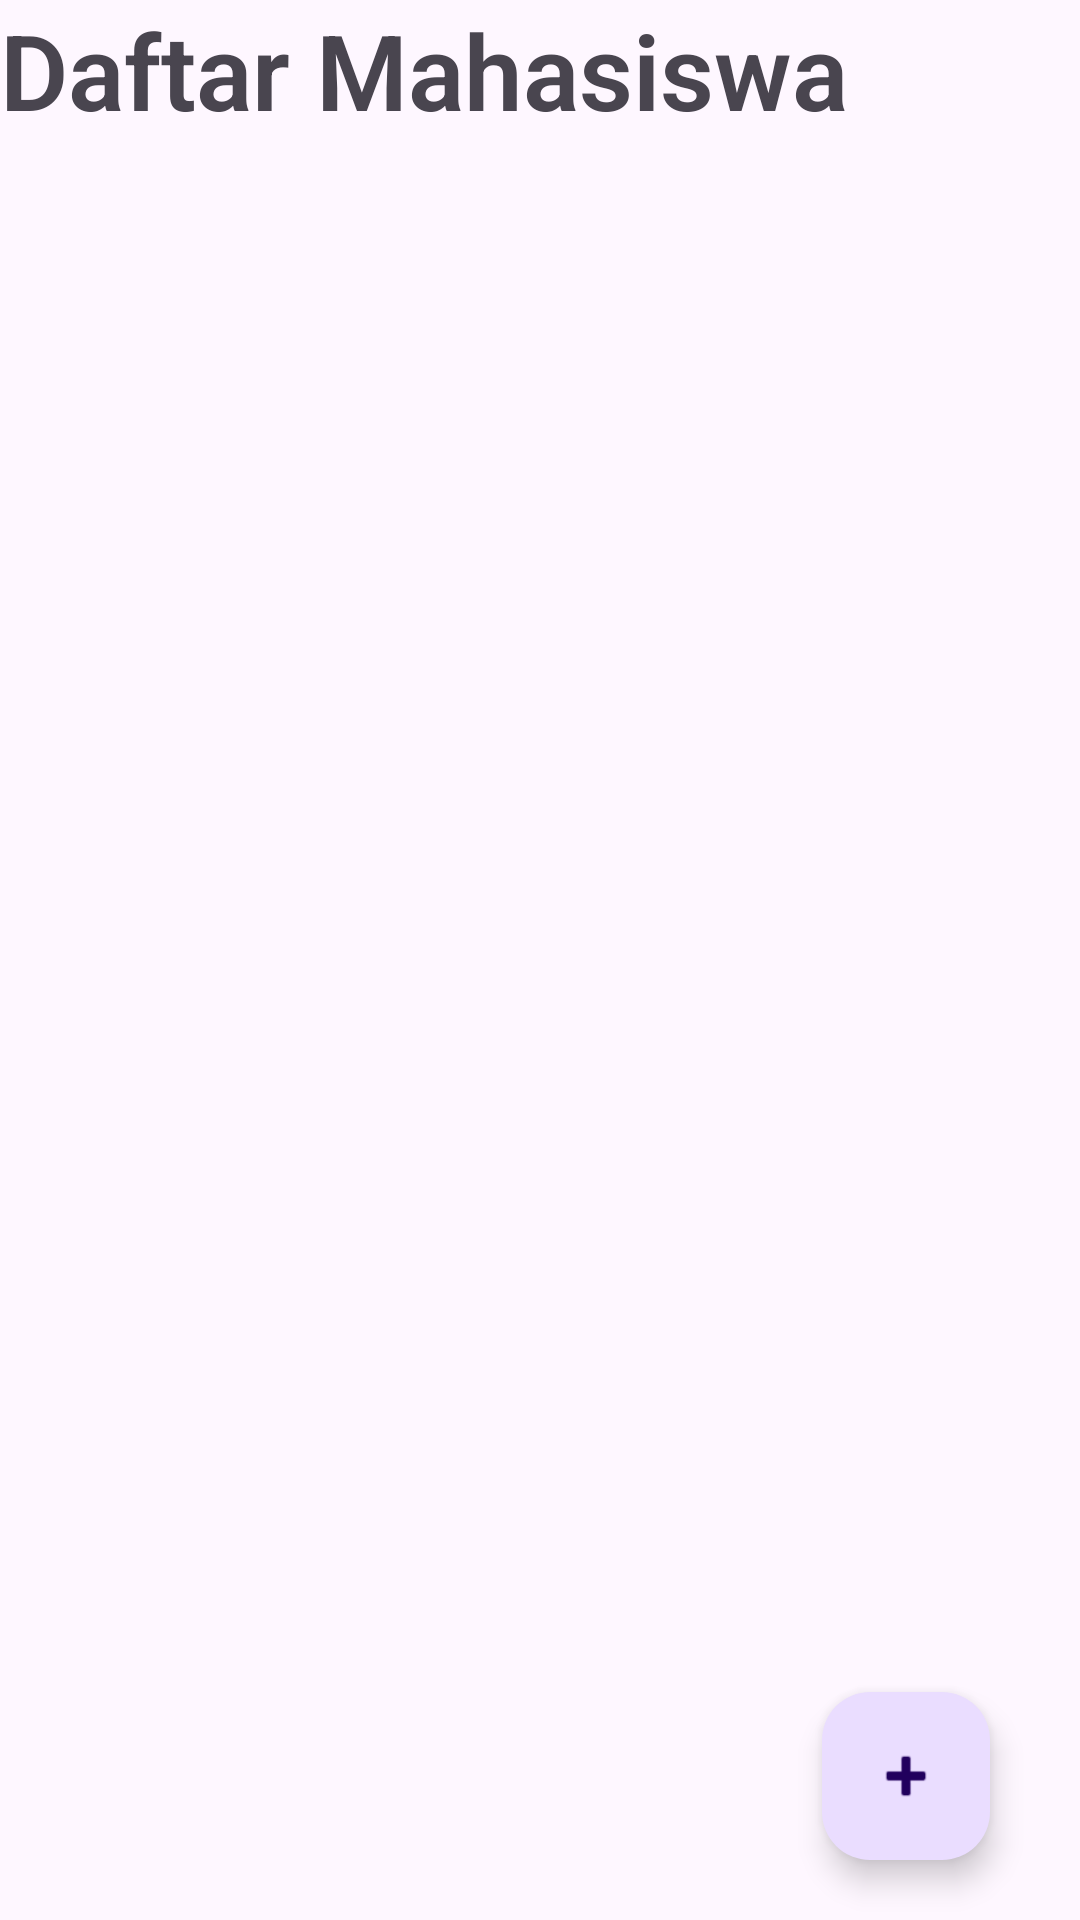

Icons on this 1080*1920 Android screen, each with its box as [x1=x1, y1=y1, x2=x2, y2=y2]:
Add: [x1=822, y1=1692, x2=990, y2=1860]
